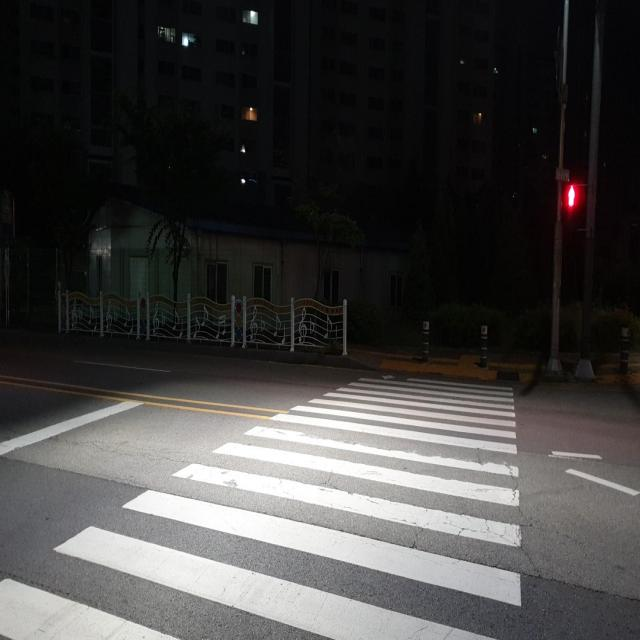빨간불: (565, 178, 579, 250)
횡단보도: (0, 372, 523, 640)
